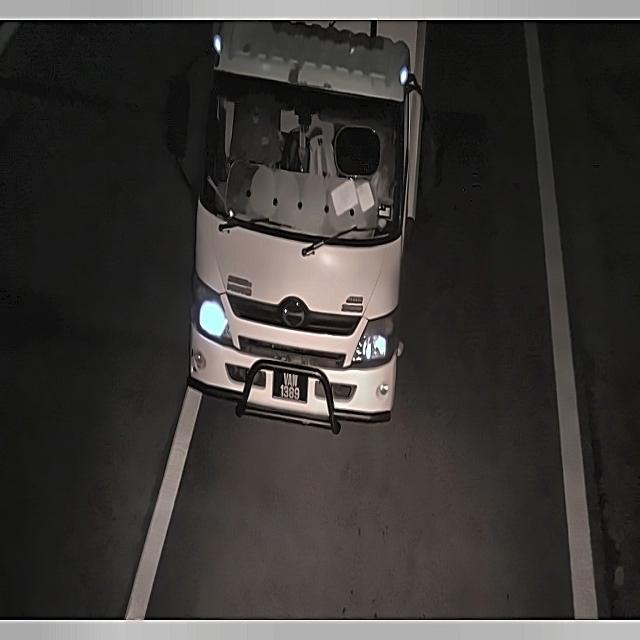car: (271, 366, 306, 406)
